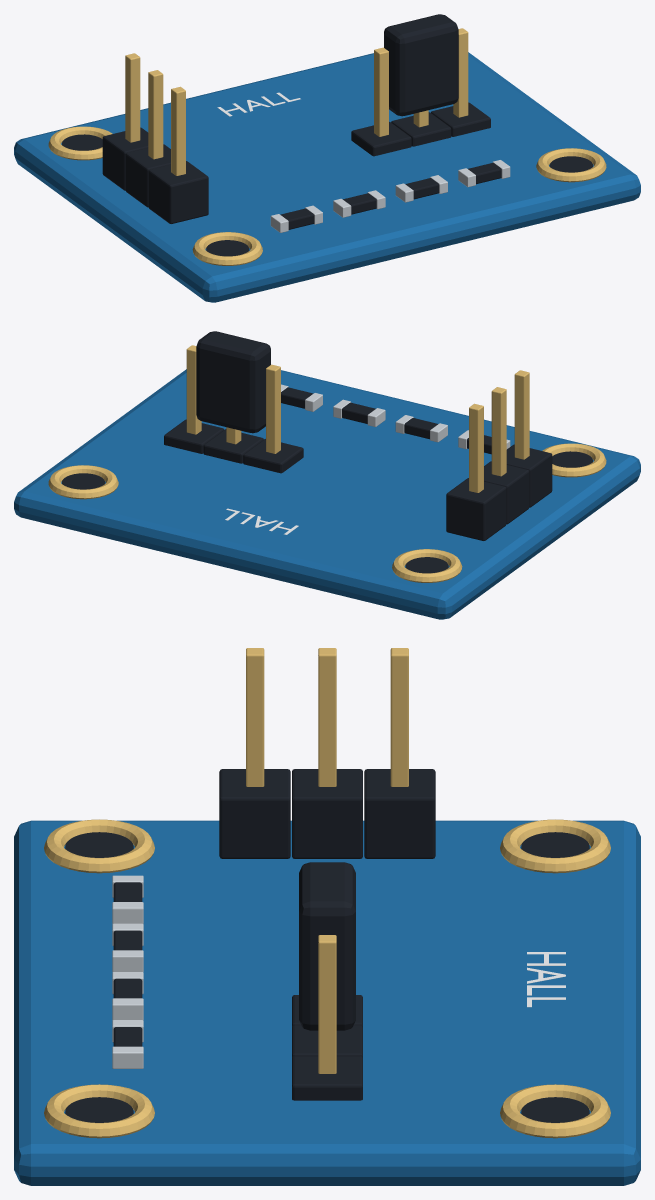
Rendered from hall-sensor.glb.
3 views of the same model, one above another, from view 1: azimuth 30°, elevation 25°; view 2: azimuth 150°, elevation 25°; view 3: azimuth 270°, elevation 25° (orthographic). The views are drawn at different scales.
Parts seen in each view (by area): view 1: Static body • blue, Static body • black, Static body • gold, Static body • silver; view 2: Static body • blue, Static body • black, Static body • gold, Static body • silver; view 3: Static body • blue, Static body • black, Static body • gold, Static body • silver, Static body • white.
Boxes of the visible parts, box(x1,y1,x2,y2) form: Static body • blue: box(14, 52, 640, 302); Static body • black: box(62, 14, 592, 256); Static body • gold: box(48, 28, 606, 265); Static body • silver: box(270, 160, 510, 232); Static body • blue: box(14, 369, 640, 619); Static body • black: box(62, 331, 592, 573); Static body • gold: box(48, 345, 606, 582); Static body • silver: box(281, 384, 510, 449); Static body • blue: box(14, 820, 640, 1185); Static body • black: box(65, 769, 589, 1122); Static body • gold: box(44, 648, 610, 1138); Static body • silver: box(112, 875, 143, 1068); Static body • white: box(527, 952, 565, 1007).
Bounding box in the file's own units: 28 × 9.5 × 22.
